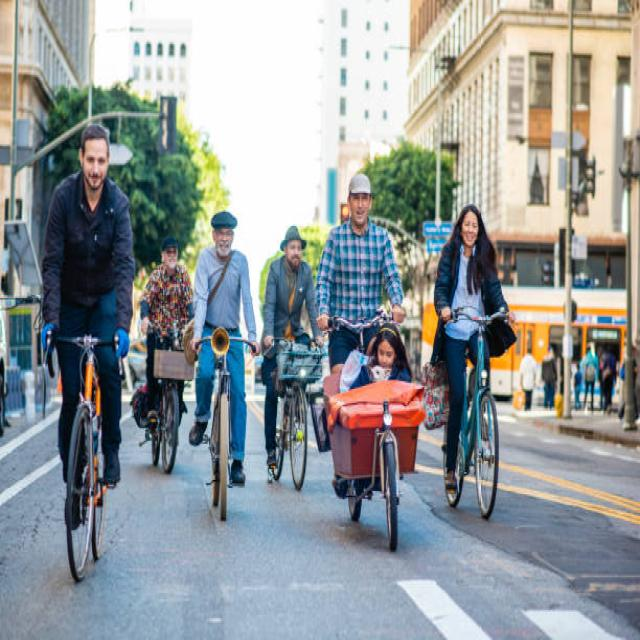bicycle: (41, 124, 135, 578), (318, 174, 424, 550), (431, 204, 515, 518), (189, 212, 260, 519), (262, 225, 324, 488), (131, 236, 194, 472)
